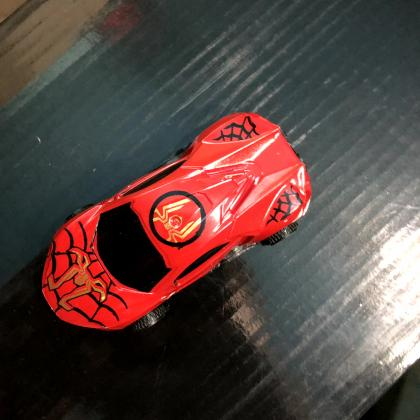Car: (40, 113, 313, 333)
